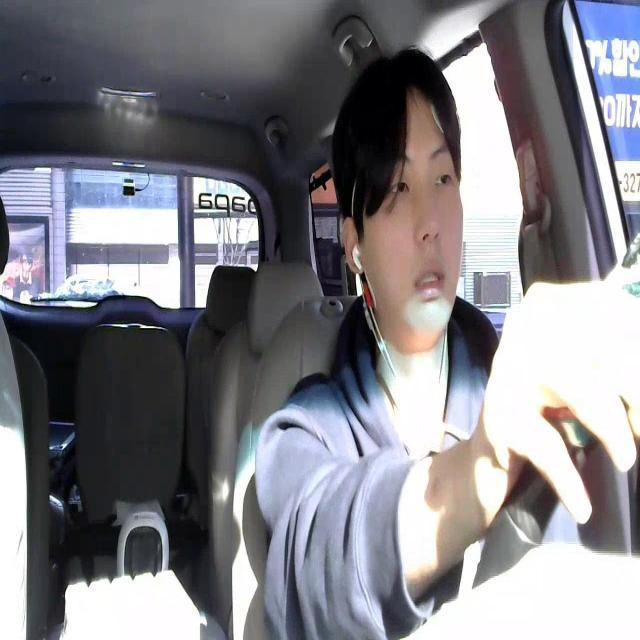Attentive: (333, 44, 464, 350)
